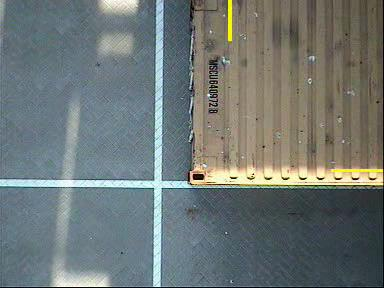groundmarker_2: (128, 178, 182, 208)
